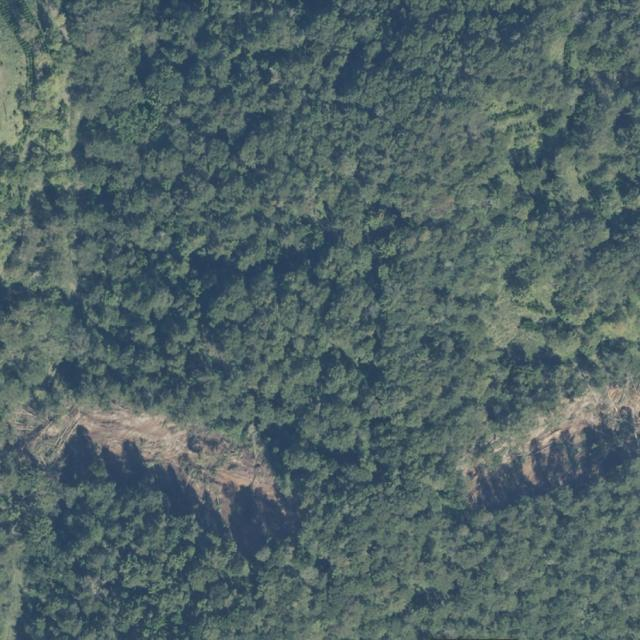landslide: (25, 407, 285, 536), (464, 392, 637, 498)
